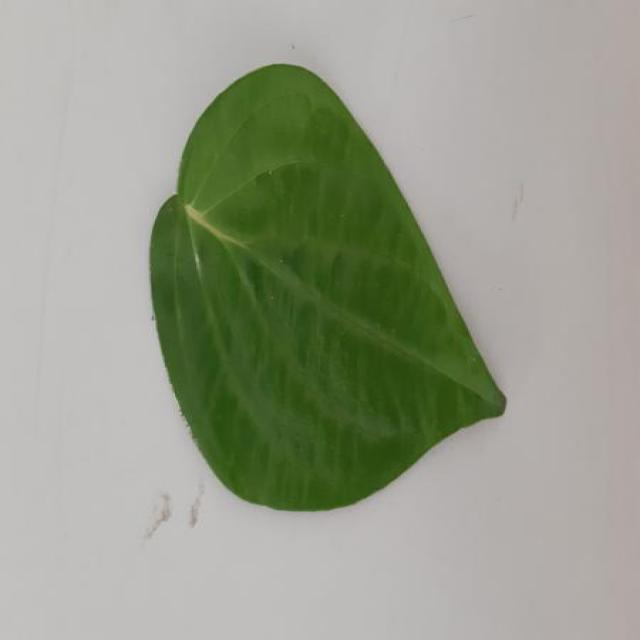betel: (152, 65, 505, 510)
